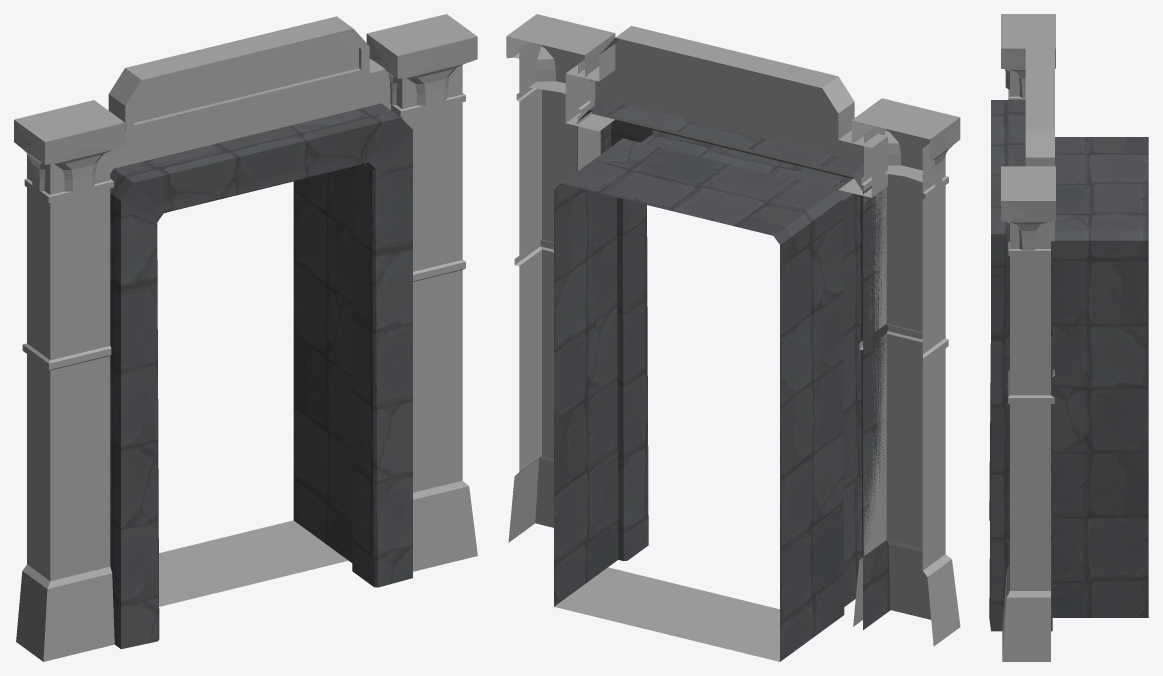
Rendered from SM_Door_Frame_01.fbx.
3 renders of one model, left to right at view 1: azimuth 30°, elevation 25°; view 2: azimuth 150°, elevation 25°; view 3: azimuth 270°, elevation 25°, orthographic. The views are drawn at different scales.
Parts seen in each view (by area): view 1: SM_Door_Frame_01; view 2: SM_Door_Frame_01; view 3: SM_Door_Frame_01.
Boxes of the visible parts, <box> form: SM_Door_Frame_01: <box>14,14,477,661</box>; SM_Door_Frame_01: <box>506,14,960,661</box>; SM_Door_Frame_01: <box>989,14,1148,661</box>.
Bounding box in the file's own units: 360 × 432 × 129.
3 materials, 1 textured.
